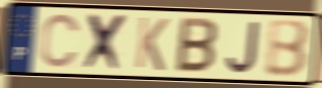B: (264, 19, 312, 80), (173, 15, 220, 76)
C: (38, 12, 82, 70)
J: (224, 19, 261, 76)
K: (133, 15, 171, 74)
X: (80, 11, 131, 74)
